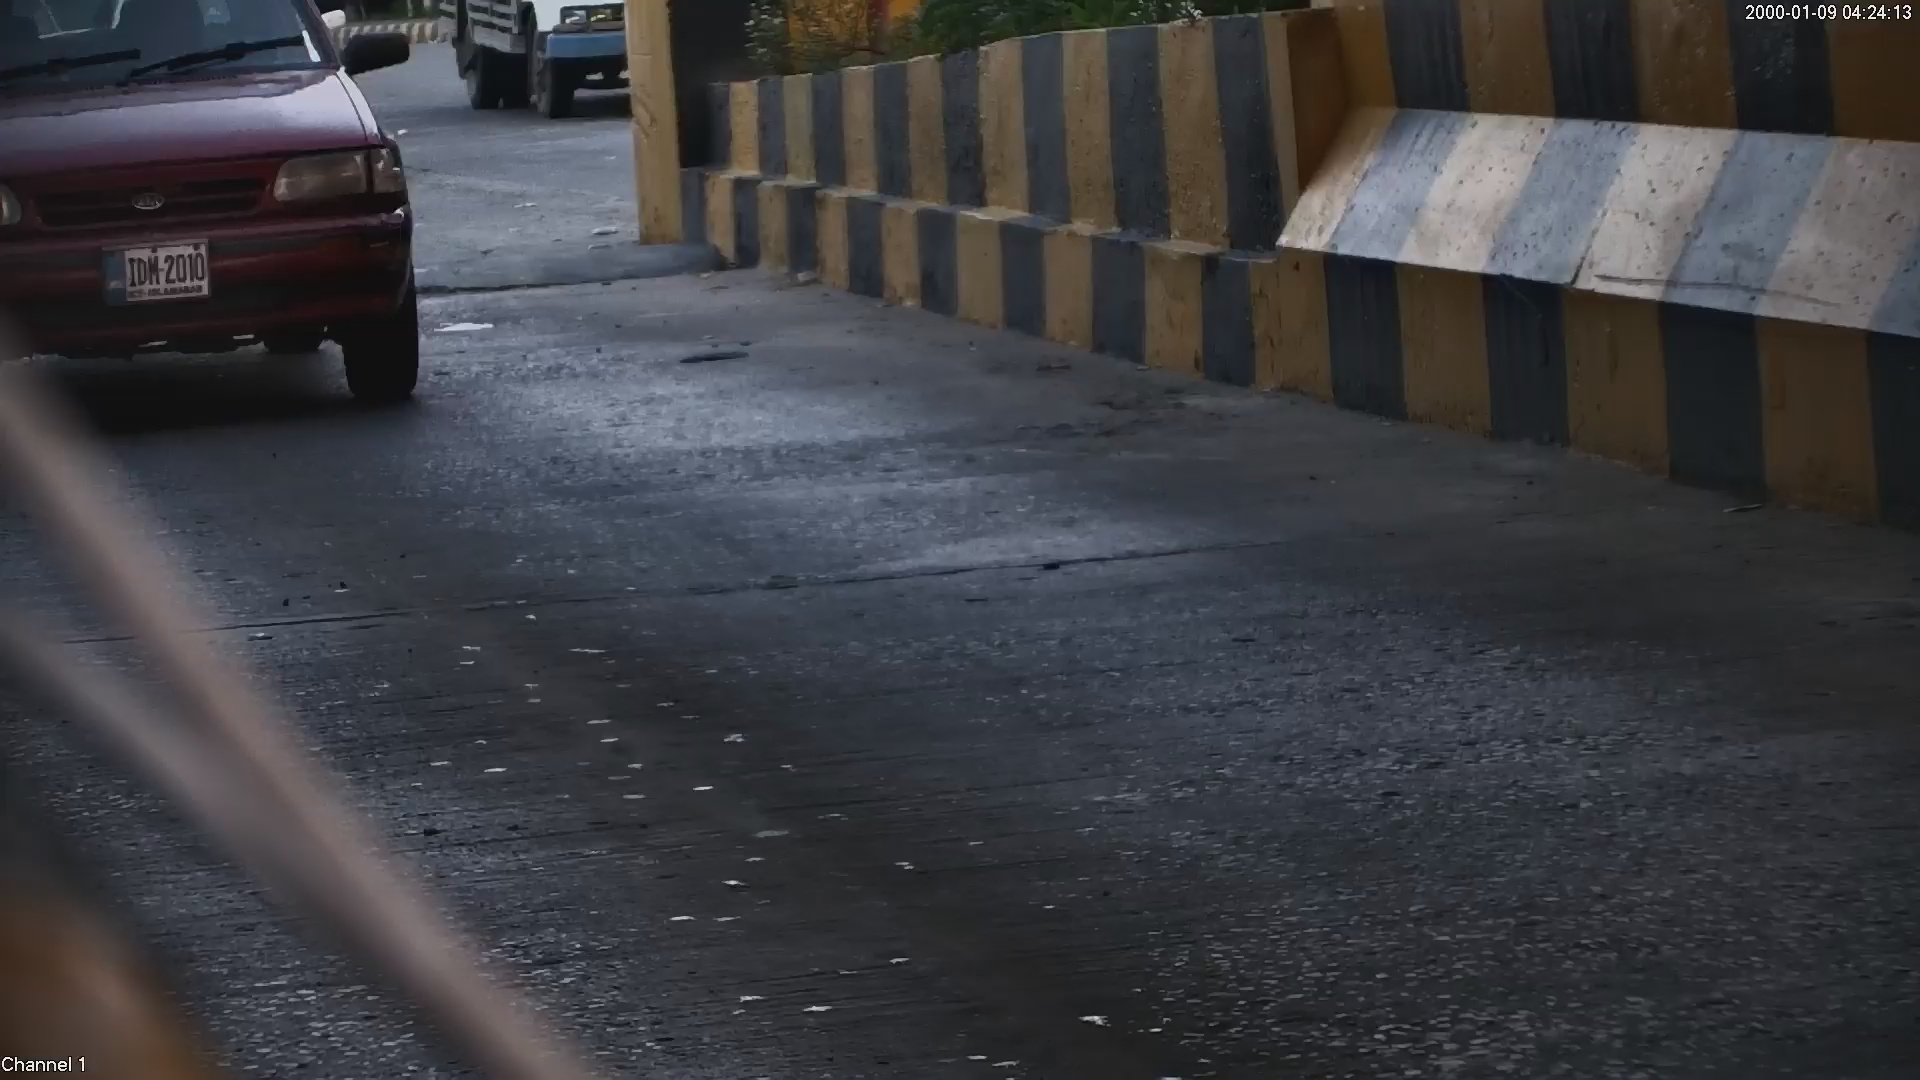Number_Plate: (87, 233, 223, 305)
